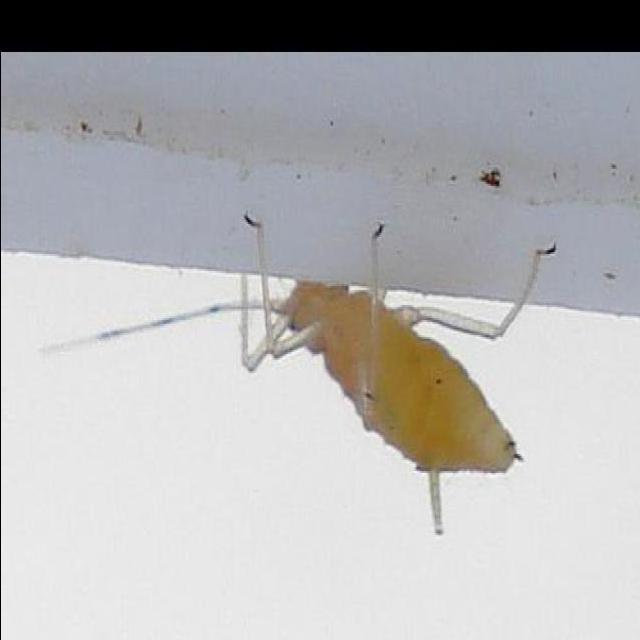aphid: (80, 160, 552, 550)
